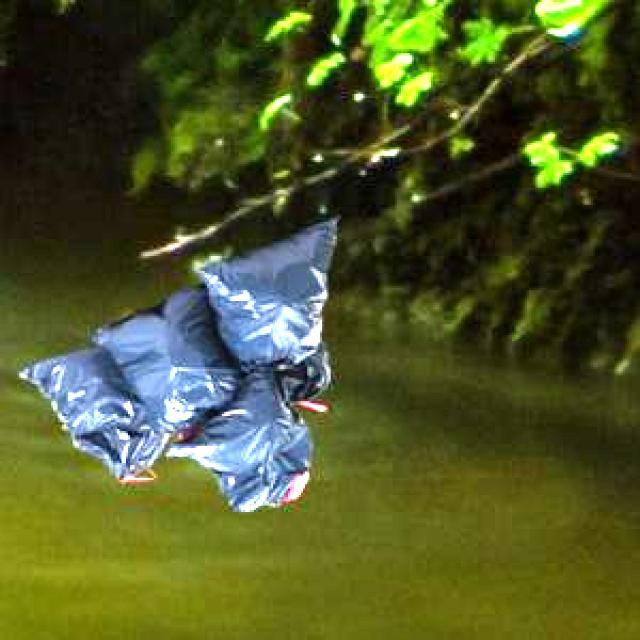Garbage_Bag: (16, 214, 334, 509)
